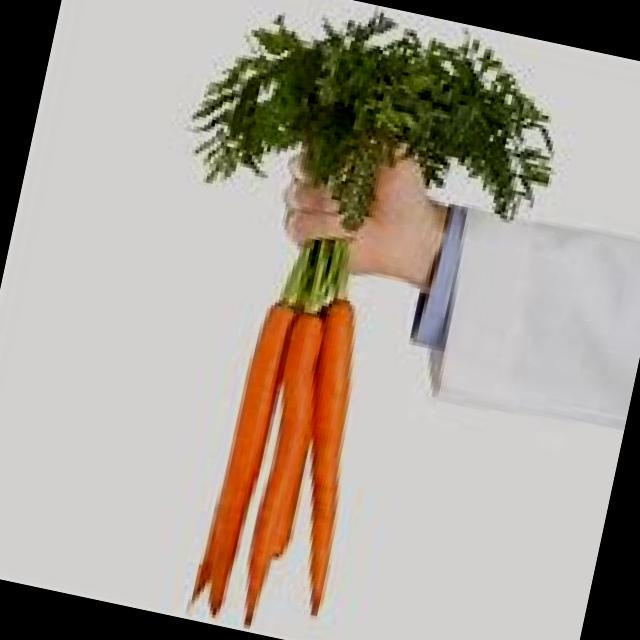carrot: (264, 298, 391, 618), (229, 312, 325, 634), (198, 304, 292, 618)
